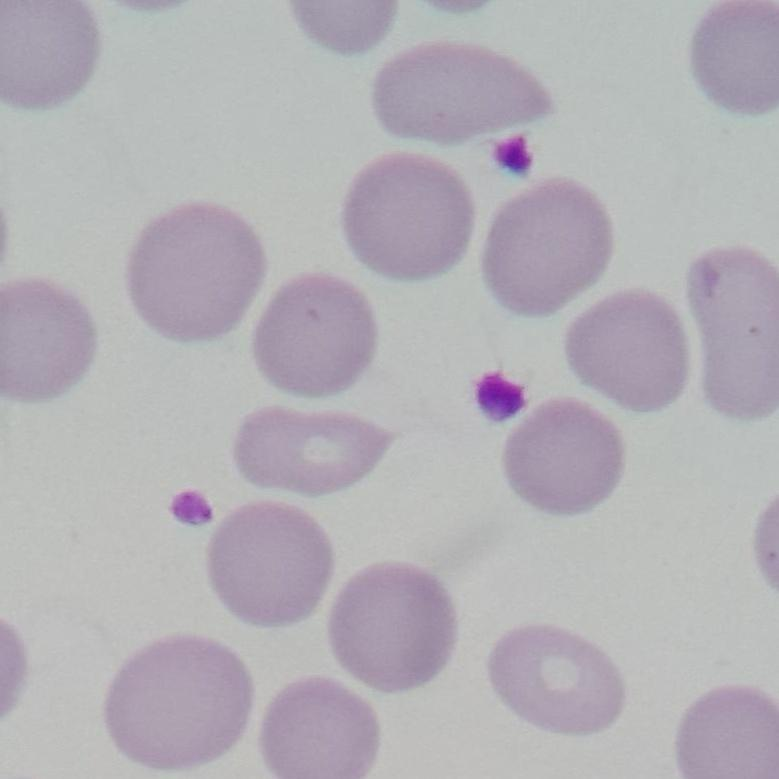Uninfected: (104, 634, 253, 771), (127, 203, 267, 342), (484, 180, 613, 316), (373, 47, 551, 143), (342, 153, 476, 280), (328, 563, 457, 691), (207, 501, 337, 626), (486, 624, 626, 737), (252, 273, 378, 396), (566, 290, 689, 414), (690, 248, 779, 418), (235, 405, 393, 497), (500, 398, 624, 515), (258, 680, 378, 779), (0, 280, 96, 400), (0, 0, 100, 114), (694, 1, 777, 113), (676, 687, 777, 774)
